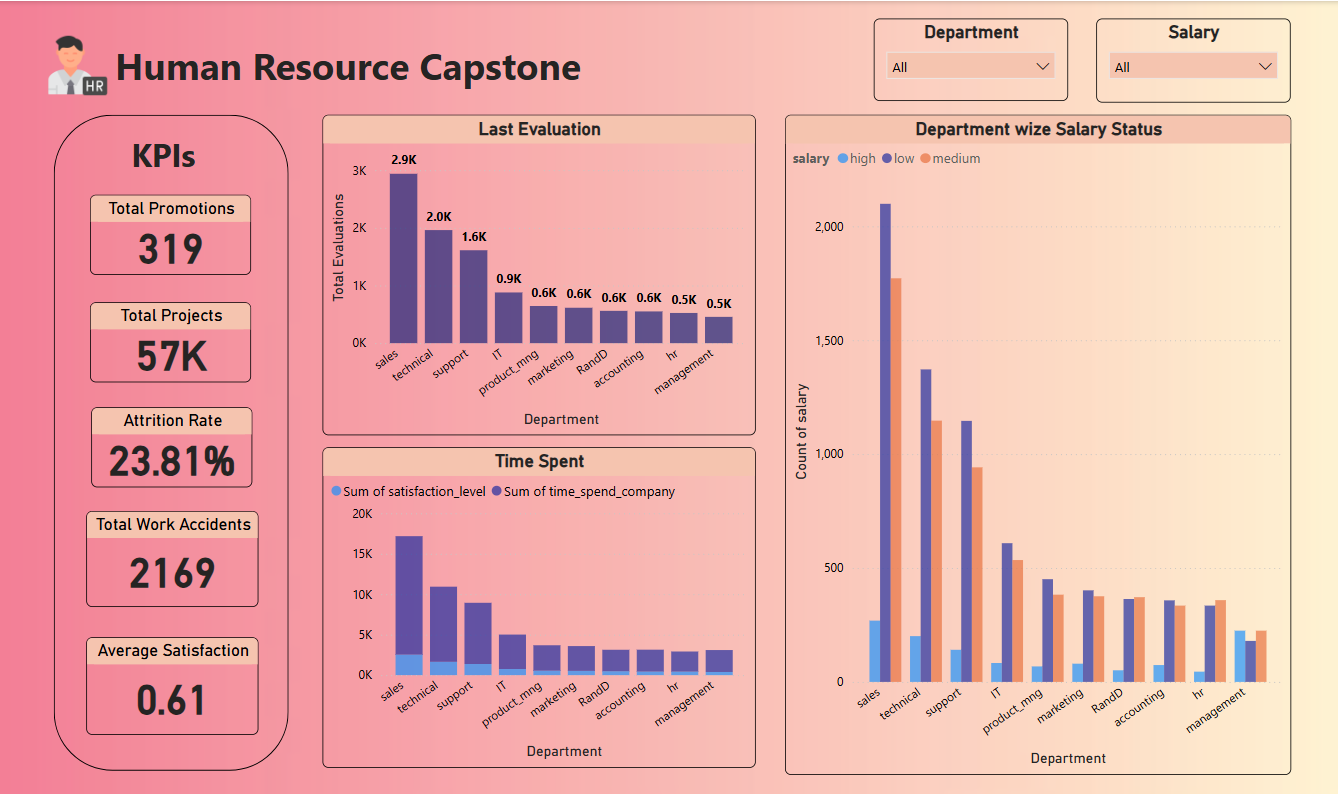

What the dashboard file says about the page in this screenshot:
{"tool":"powerbi","page":{"name":"Analysis","canvas":[1350,800],"ordinal":0},"visuals":[{"type":"textbox","box":[111.1,35.7,505,79.6],"z":0},{"type":"image","box":[39.7,30.4,79.3,70.1],"z":1000},{"type":"clusteredColumnChart","title":"Department wize Salary Status","fields":{"Category":["HR_capstone_dataset.Department"],"Y":["CountNonNull(HR_capstone_dataset.salary)"],"Series":["HR_capstone_dataset.salary"]},"box":[790.9,115.1,510.5,665.2],"z":2000},{"type":"columnChart","title":"Time Spent","fields":{"Category":["HR_capstone_dataset.Department"],"Y":["Sum(HR_capstone_dataset.satisfaction_level)","Sum(HR_capstone_dataset.time_spend_company)"]},"box":[324.7,449.6,436.4,323.3],"z":3000},{"type":"card","title":"Total Promotions","fields":{"Values":["Sum(HR_capstone_dataset.promotion_last_5years)"]},"box":[90.7,195.3,162.6,80.7],"z":4000},{"type":"textbox","box":[127.3,128.5,109.6,58],"z":5000},{"type":"shape","box":[54.2,114.7,236.9,661.6],"z":6000},{"type":"card","title":"Total Work Accidents","fields":{"Values":["Sum(HR_capstone_dataset.Work_accident)"]},"box":[87,514.2,173.9,97],"z":7000},{"type":"card","title":"Attrition Rate","fields":{"Values":["HR_capstone_dataset.Attrition"]},"box":[92,409.6,162.6,80.7],"z":8000},{"type":"card","title":"Total Projects","fields":{"Values":["Sum(HR_capstone_dataset.number_project)"]},"box":[90.7,303.7,162.6,80.7],"z":9000},{"type":"card","title":"Average Satisfaction","fields":{"Values":["Avg(HR_capstone_dataset.satisfaction_level)"]},"box":[87,641.5,173.9,98.3],"z":10000},{"type":"columnChart","title":"Last Evaluation","fields":{"Category":["HR_capstone_dataset.Department"],"Y":["Sum(HR_capstone_dataset.last_evaluation)"]},"box":[324.7,114.6,436.4,323.3],"z":11000},{"type":"slicer","title":"Salary","fields":{"Values":["HR_capstone_dataset.salary"]},"box":[1105.6,17.2,195.7,84.6],"z":12000},{"type":"slicer","title":"Department","fields":{"Values":["HR_capstone_dataset.Department"]},"box":[880.8,17.2,195.7,83.3],"z":13000}]}

Visuals, with their boxes in screenshot pixels (x1, y1, x2, y2), scaled from the page's 1350x800 canvas onto the 1338x794 screenshot:
textbox: region(110, 35, 611, 114)
image: region(39, 30, 118, 100)
"Department wize Salary Status" clusteredColumnChart: region(784, 114, 1290, 774)
"Time Spent" columnChart: region(322, 446, 754, 767)
"Total Promotions" card: region(90, 194, 251, 274)
textbox: region(126, 128, 235, 185)
shape: region(54, 114, 289, 770)
"Total Work Accidents" card: region(86, 510, 259, 607)
"Attrition Rate" card: region(91, 407, 252, 487)
"Total Projects" card: region(90, 301, 251, 382)
"Average Satisfaction" card: region(86, 637, 259, 734)
"Last Evaluation" columnChart: region(322, 114, 754, 435)
"Salary" slicer: region(1096, 17, 1290, 101)
"Department" slicer: region(873, 17, 1067, 100)
